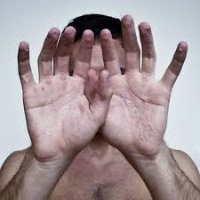ring: (136, 19, 159, 82), (37, 24, 60, 84)
